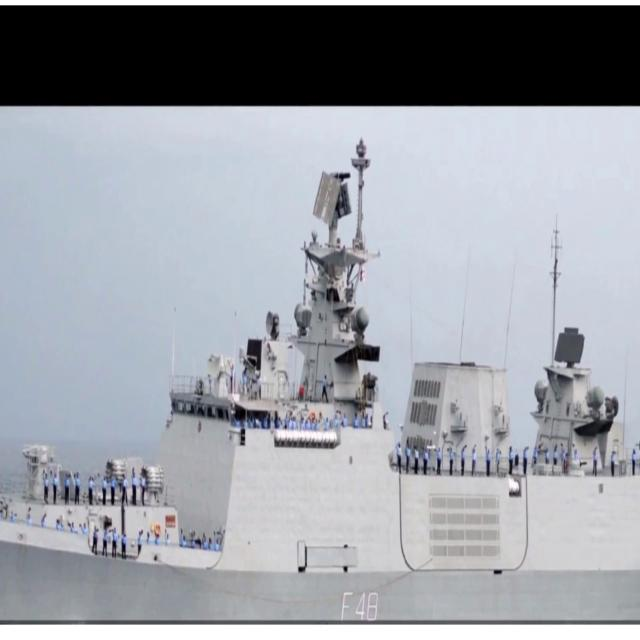OCR: (327, 587, 380, 624)
